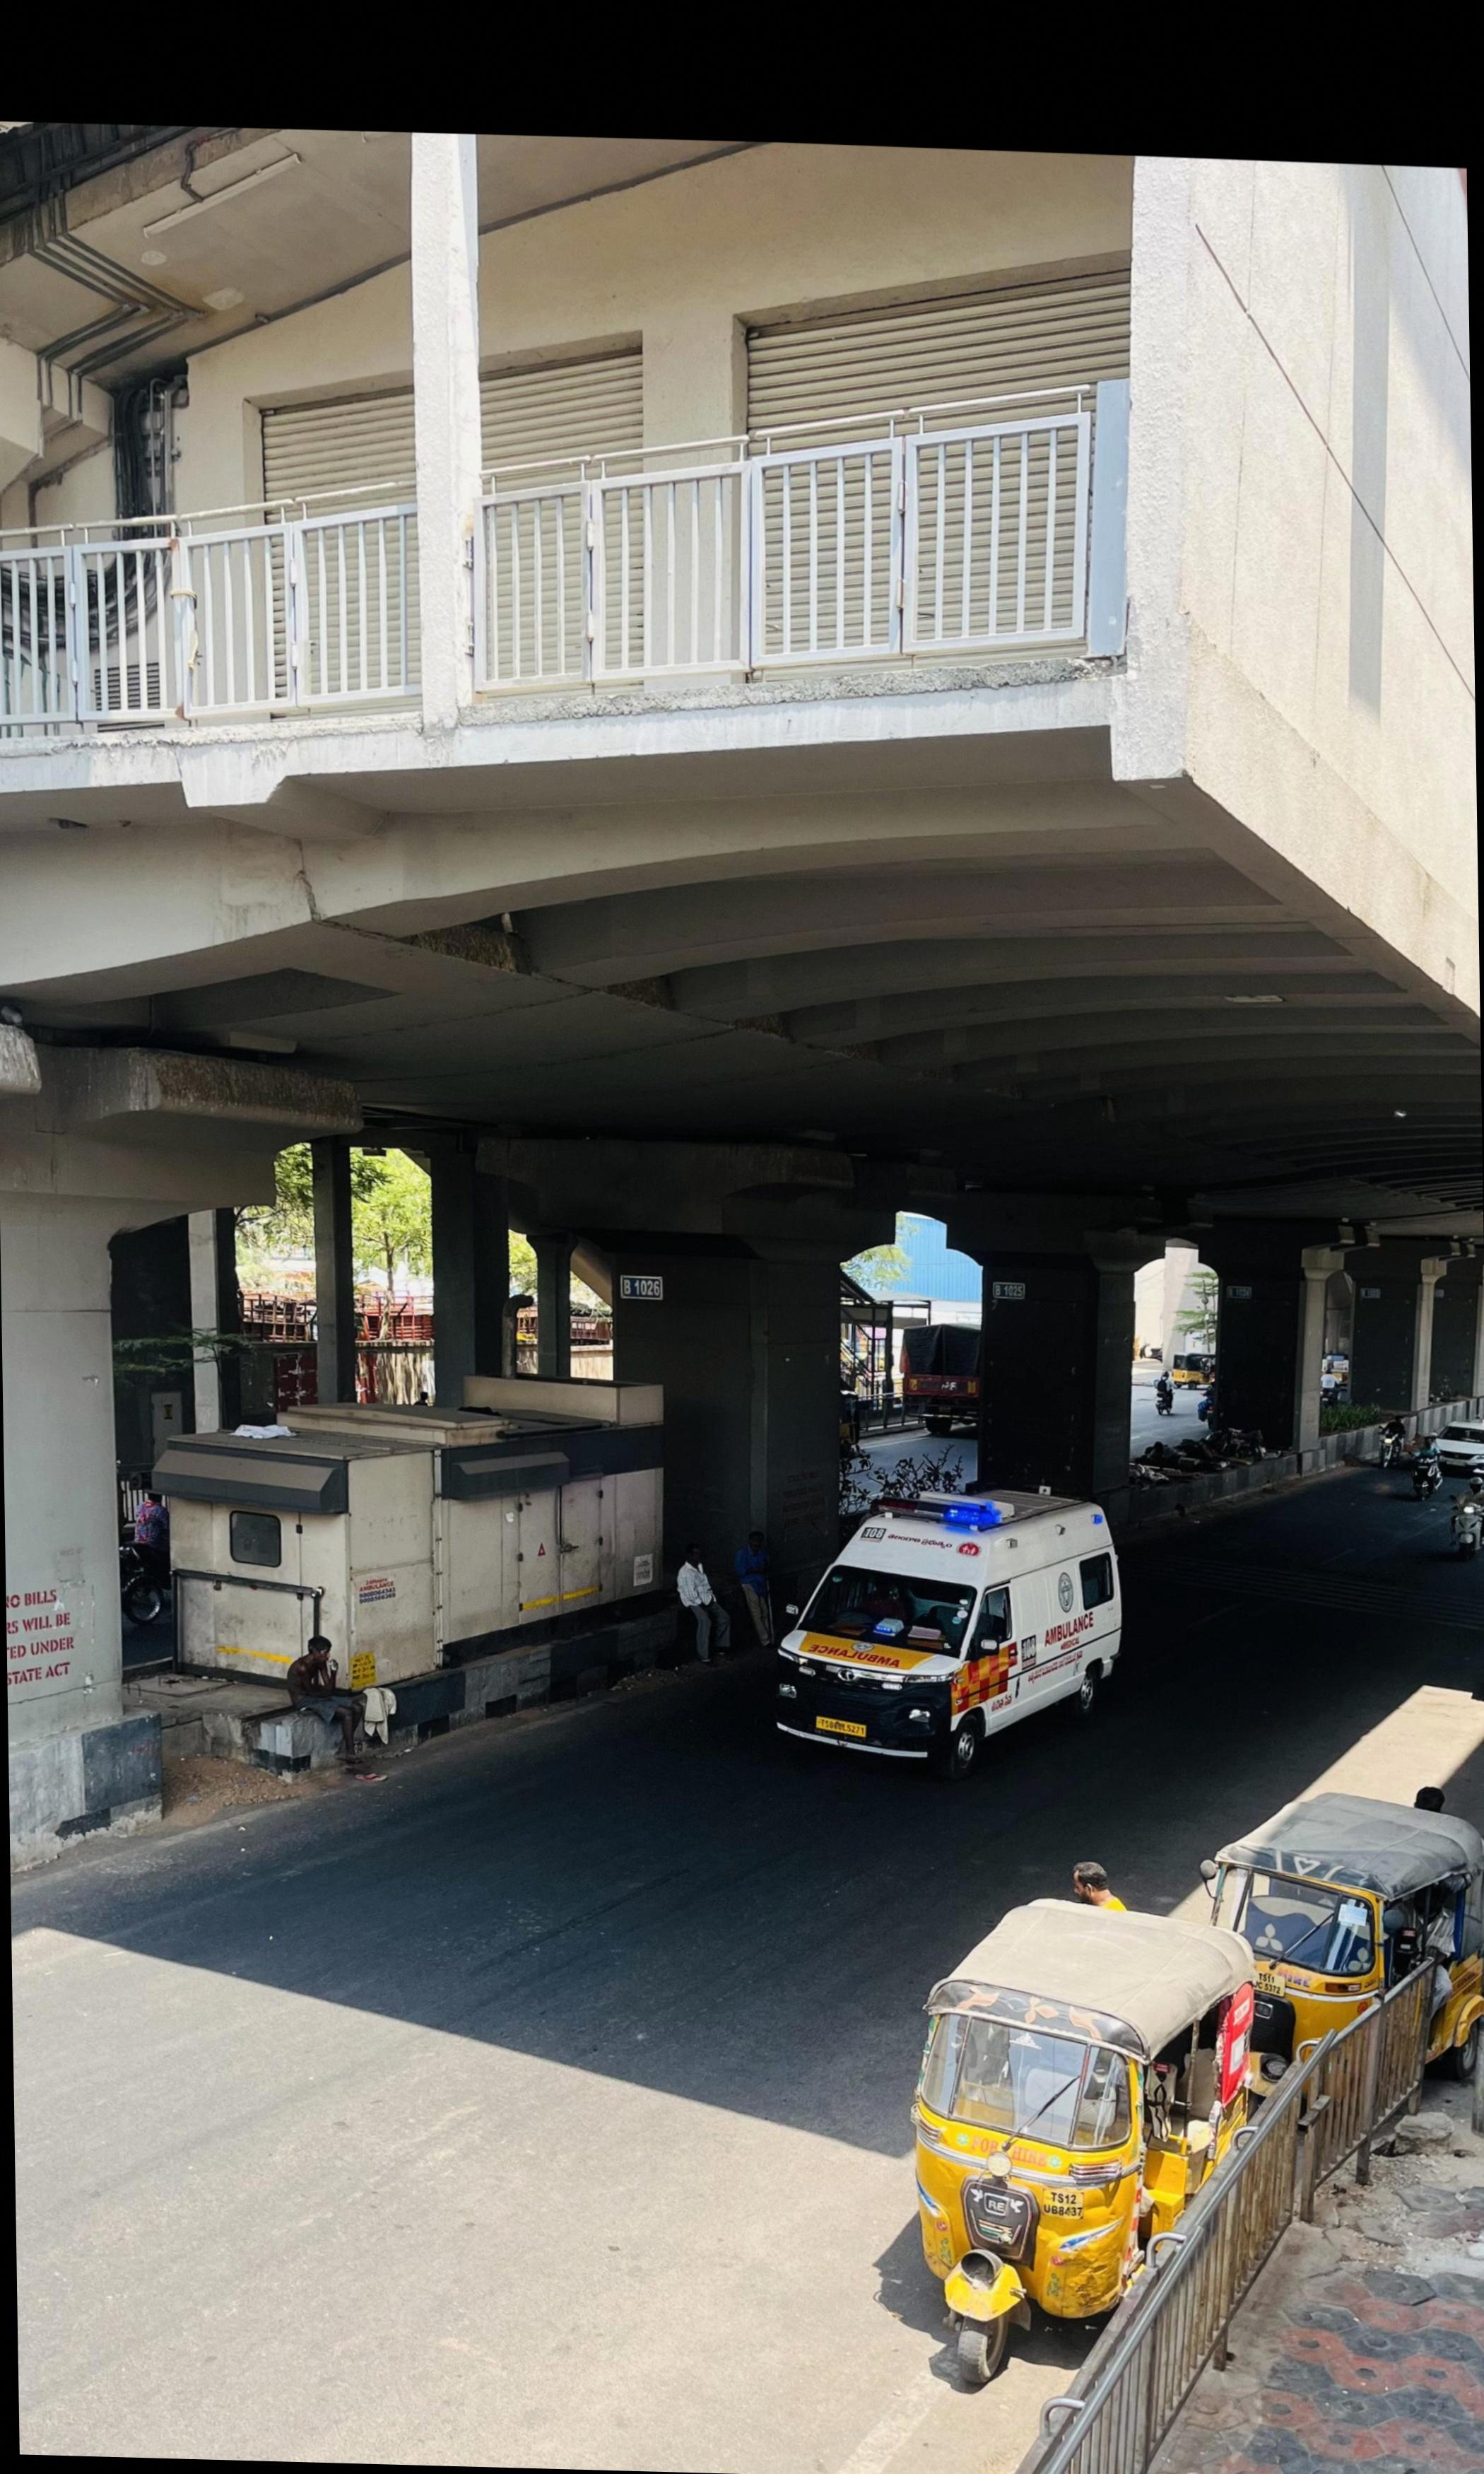ambulance: (760, 1497, 1129, 1778)
